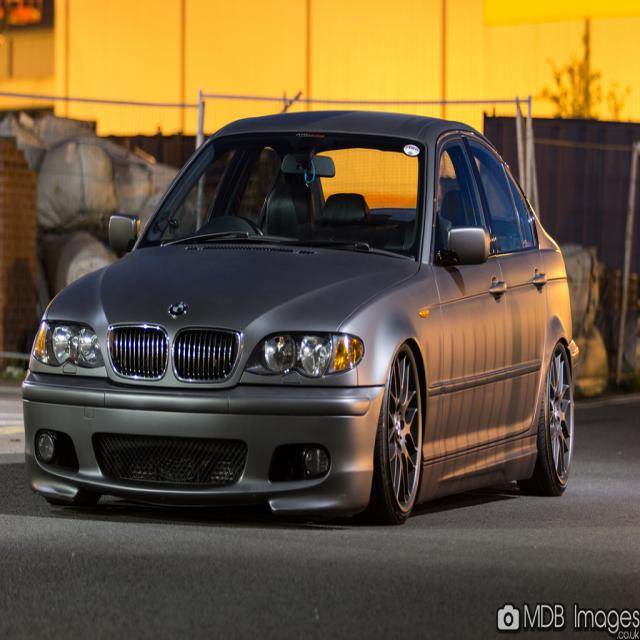car: (19, 96, 574, 555)
